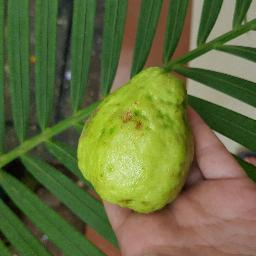Good_guava: (77, 60, 194, 214)
